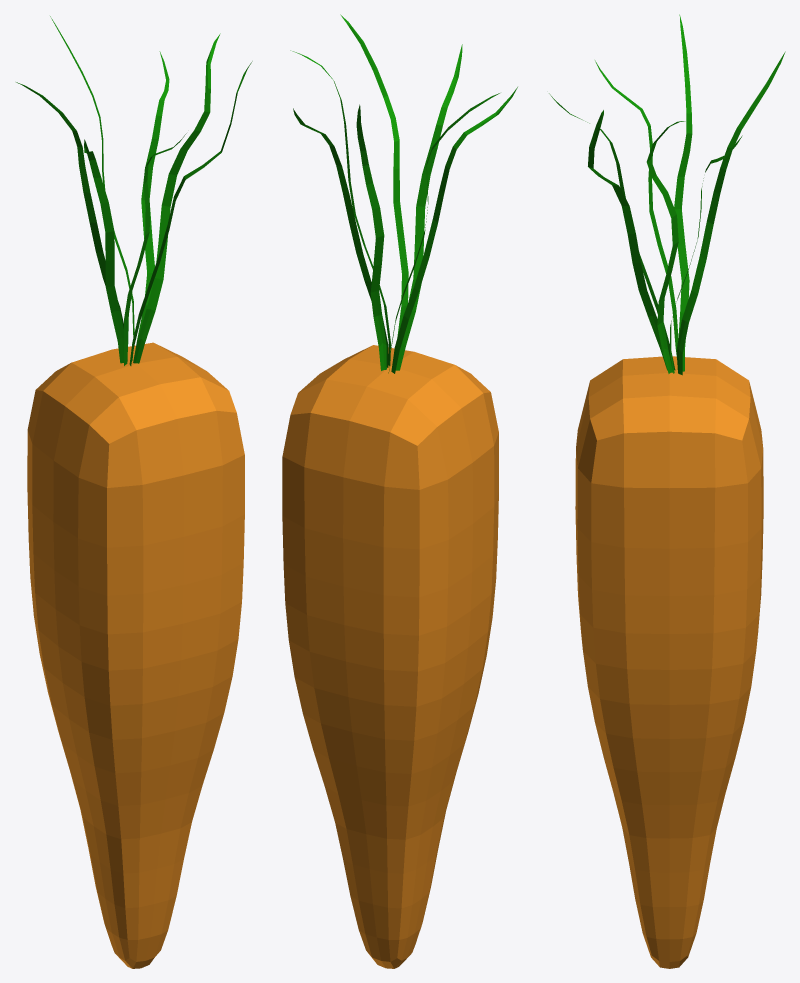
Rendered from carrot.fbx.
The picture shows the model from 3 angles, left to right: view 1: azimuth 30°, elevation 25°; view 2: azimuth 150°, elevation 25°; view 3: azimuth 270°, elevation 25°; orthographic projection.
Parts seen in each view (by area): view 1: Carrot; view 2: Carrot; view 3: Carrot.
Part boxes in pixels (x1,y1,x2,y2): Carrot: (16, 16, 252, 968); Carrot: (282, 14, 517, 968); Carrot: (549, 14, 785, 968).
Bounding box in the file's own units: 9.13 × 38 × 9.12.
